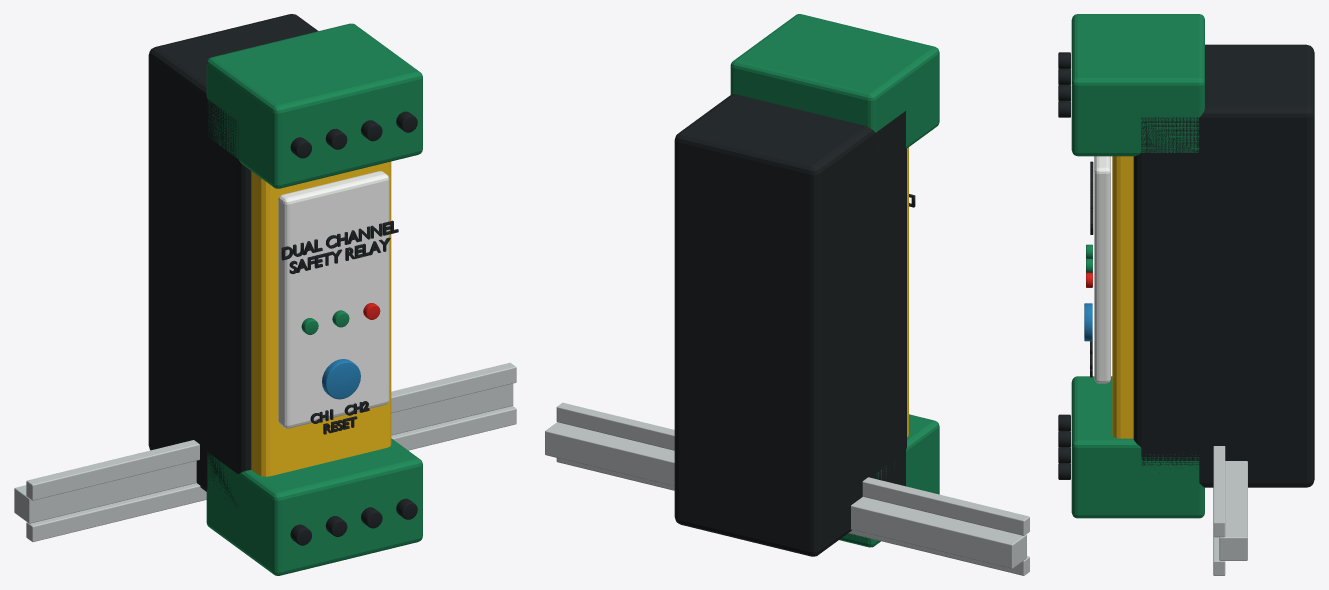
File: safety_relay.glb
3 renders of one model, left to right at view 1: azimuth 30°, elevation 25°; view 2: azimuth 150°, elevation 25°; view 3: azimuth 270°, elevation 25°, orthographic. The views are drawn at different scales.
Visible parts, largest first — view 1: RELAY_BASE, TOP_TERMINAL_DECK, FUNCTION_PANEL, BOTTOM_TERMINAL_DECK, SAFETY_RELAY, DIN_RAIL, DIN_LIP_TOP, DIN_LIP_BOTTOM, SAFETY_LABEL, RESET_DIAL, CHANNEL_MARKS; view 2: RELAY_BASE, TOP_TERMINAL_DECK, DIN_RAIL, DIN_LIP_TOP, BOTTOM_TERMINAL_DECK, DIN_LIP_BOTTOM; view 3: RELAY_BASE, TOP_TERMINAL_DECK, BOTTOM_TERMINAL_DECK, SAFETY_RELAY, FUNCTION_PANEL, DIN_RAIL, DIN_LIP_TOP, DIN_LIP_BOTTOM, RESET_DIAL.
Boxes of the visible parts, left/top/right/bottom form: RELAY_BASE: left=148, top=14, right=318, bottom=508; TOP_TERMINAL_DECK: left=206, top=23, right=422, bottom=188; FUNCTION_PANEL: left=278, top=171, right=389, bottom=428; BOTTOM_TERMINAL_DECK: left=206, top=438, right=422, bottom=575; SAFETY_RELAY: left=251, top=161, right=391, bottom=476; DIN_RAIL: left=14, top=383, right=513, bottom=523; DIN_LIP_TOP: left=26, top=362, right=516, bottom=500; DIN_LIP_BOTTOM: left=26, top=406, right=516, bottom=541; SAFETY_LABEL: left=281, top=220, right=398, bottom=273; RESET_DIAL: left=322, top=359, right=360, bottom=399; CHANNEL_MARKS: left=310, top=401, right=369, bottom=434; RELAY_BASE: left=674, top=94, right=906, bottom=556; TOP_TERMINAL_DECK: left=730, top=14, right=939, bottom=148; DIN_RAIL: left=545, top=422, right=1026, bottom=568; DIN_LIP_TOP: left=556, top=402, right=1029, bottom=535; BOTTOM_TERMINAL_DECK: left=839, top=414, right=939, bottom=547; DIN_LIP_BOTTOM: left=556, top=458, right=1029, bottom=575; RELAY_BASE: left=1133, top=44, right=1314, bottom=487; TOP_TERMINAL_DECK: left=1071, top=14, right=1204, bottom=156; BOTTOM_TERMINAL_DECK: left=1071, top=376, right=1204, bottom=518; SAFETY_RELAY: left=1112, top=156, right=1133, bottom=438; FUNCTION_PANEL: left=1094, top=156, right=1110, bottom=383; DIN_RAIL: left=1219, top=461, right=1247, bottom=560; DIN_LIP_TOP: left=1213, top=446, right=1225, bottom=537; DIN_LIP_BOTTOM: left=1213, top=537, right=1225, bottom=575; RESET_DIAL: left=1084, top=303, right=1092, bottom=341.
Size of the model in its own units: 1.1 by 1.02 by 0.538.
